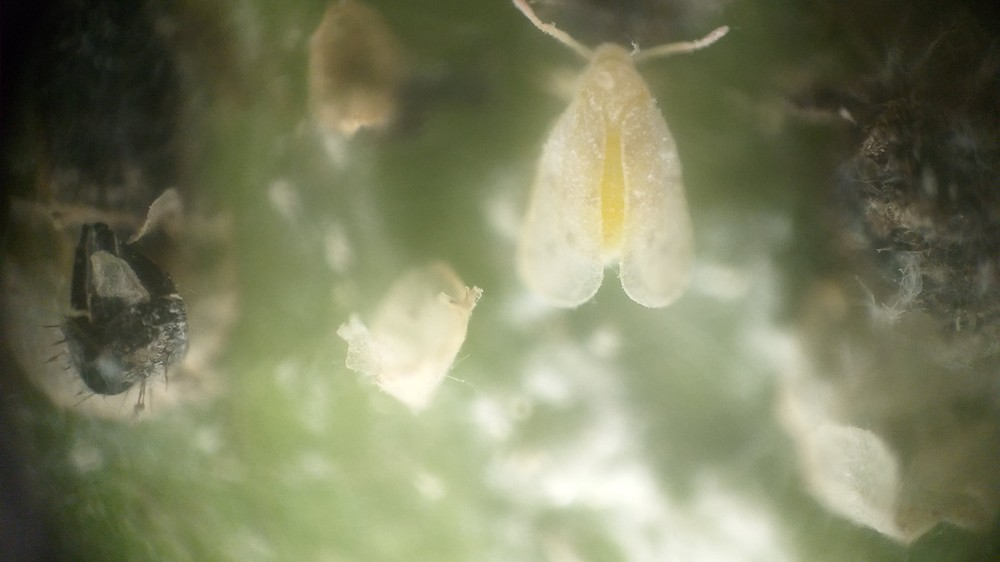Mosca Blanca: (490, 3, 746, 344)
